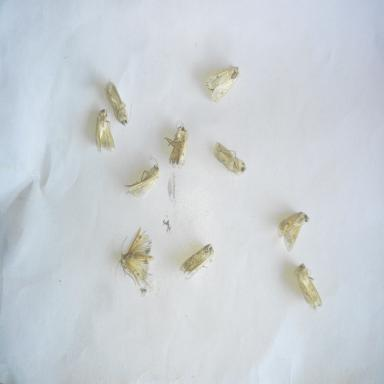abw: (120, 151, 162, 201), (273, 208, 314, 256), (202, 62, 244, 107), (291, 259, 325, 314), (103, 78, 136, 129), (178, 240, 218, 282), (210, 136, 248, 180), (162, 116, 192, 168), (90, 104, 120, 153)
